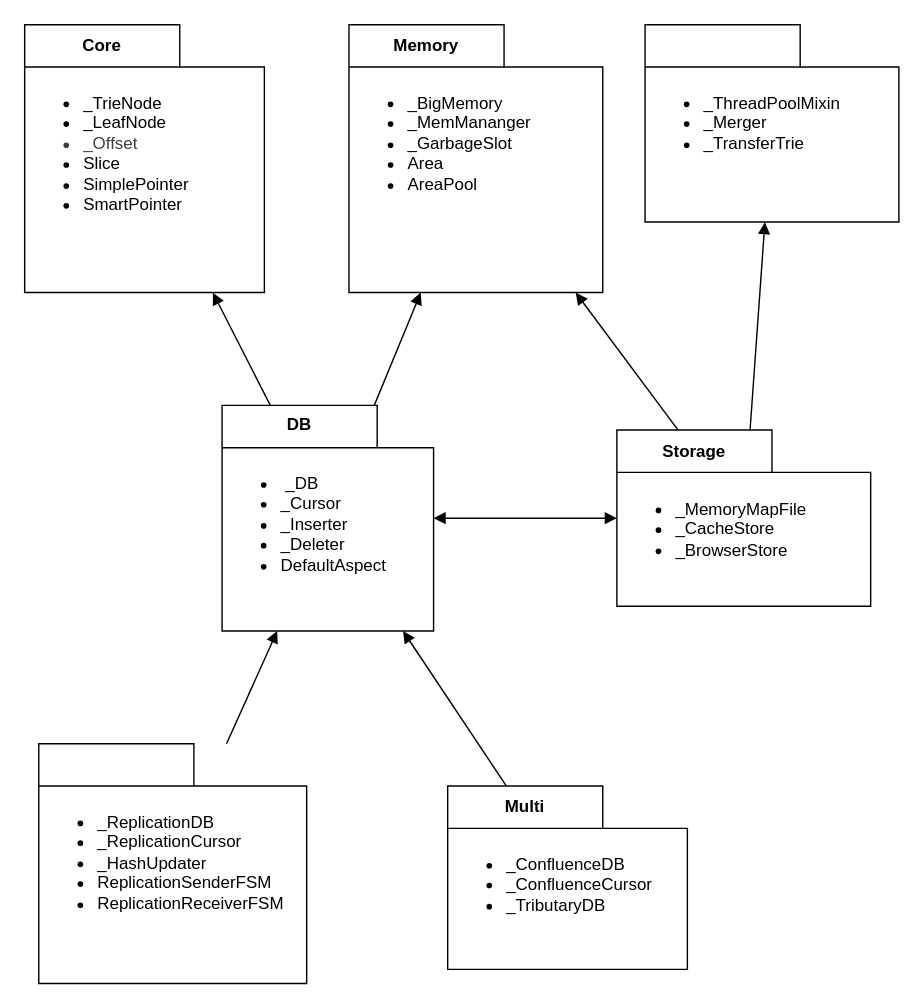
The diagram is 924 pixels wide and 1008 high, and some of its shapes have lost their labels. Each missing label, with the centre of its shape:
"Replication" belongs at point (172, 862).
"Util" belongs at point (771, 122).
